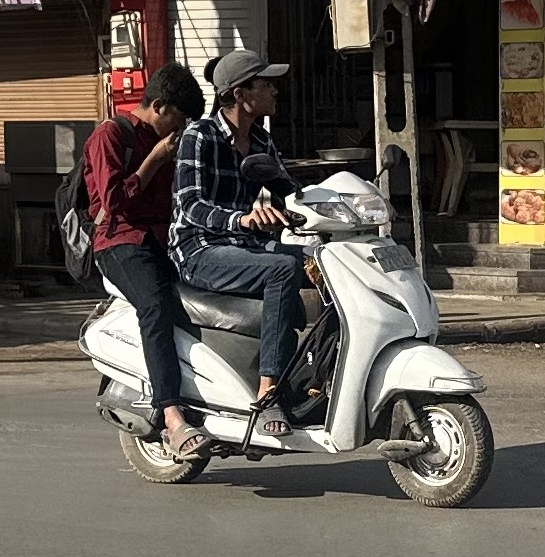BikeWithRider: (51, 48, 499, 508)
NoHelmet: (210, 50, 293, 121), (136, 62, 206, 144)
